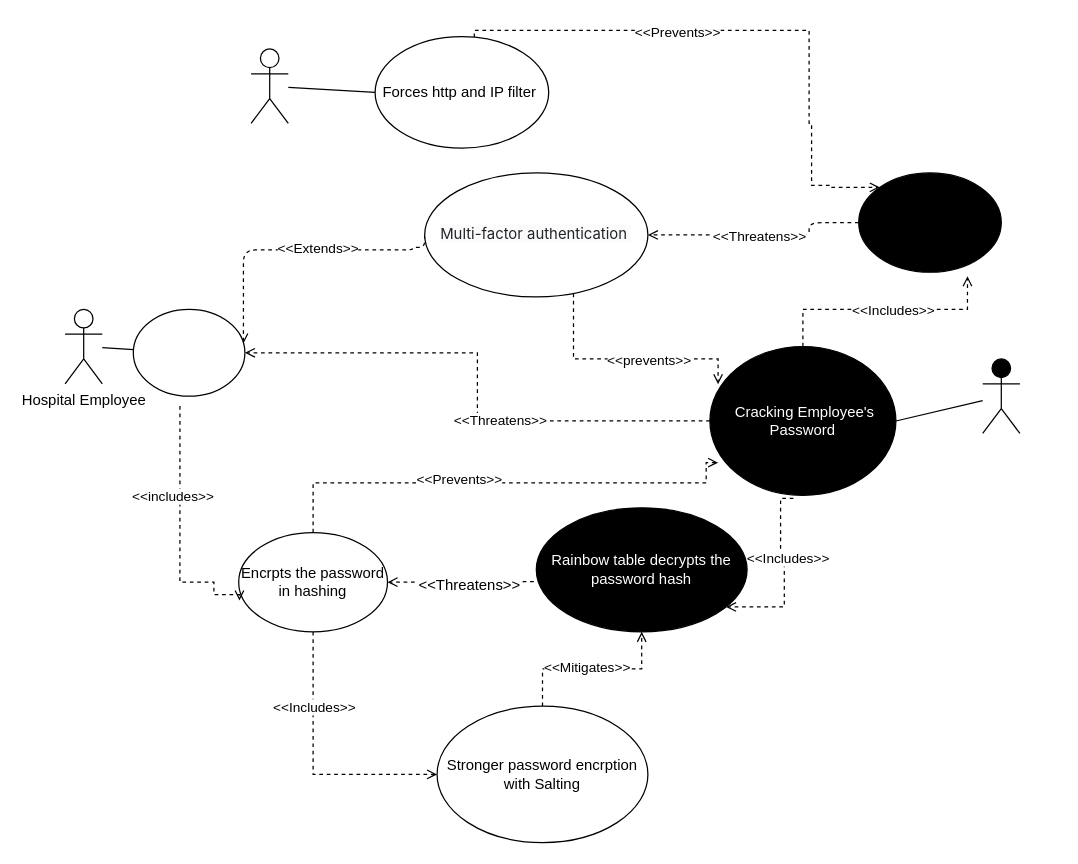
The diagram is 1078 pixels wide and 864 high, and some of its shapes have lost their labels. Here are the shapes that lost their labels. From the top down, the centre of each, then its label:
(x=269, y=85): Elasticsearch Admin
(x=929, y=222): Man in the middle attack
(x=188, y=352): Login
(x=1000, y=395): Information Thief
